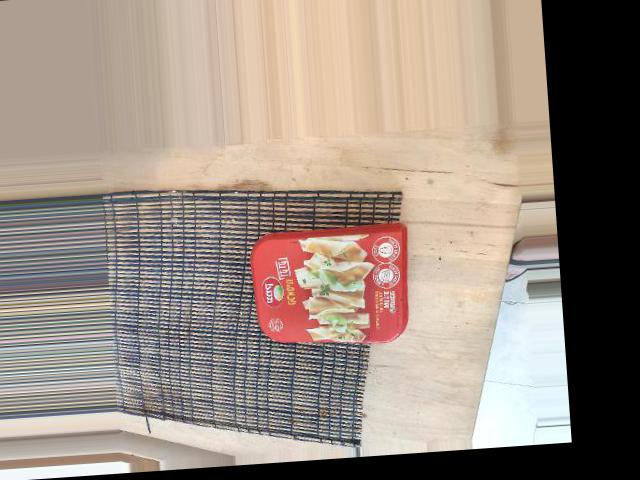cheese: (244, 238, 416, 358)
